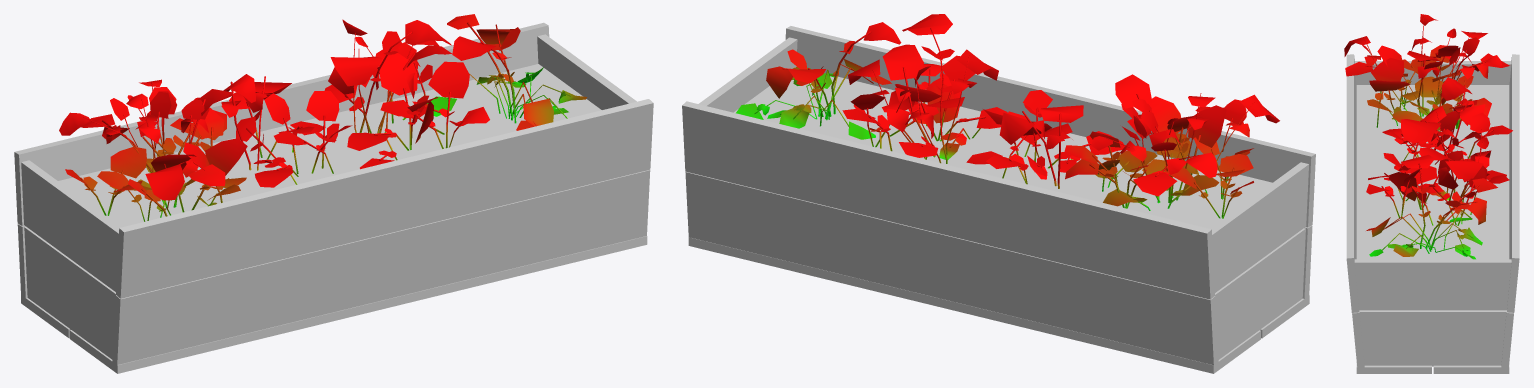
Rendered from SM_CorianderBalcony_2.fbx.
The picture shows the model from 3 angles, left to right: view 1: azimuth 30°, elevation 25°; view 2: azimuth 150°, elevation 25°; view 3: azimuth 270°, elevation 25°; orthographic projection. The views are drawn at different scales.
Parts seen in each view (by area): view 1: Balcony2, Coriander6, Coriander4, Coriander3, Coriander5; view 2: Balcony2, Coriander6, Coriander4, Coriander3, Coriander5; view 3: Balcony2, Coriander6, Coriander4, Coriander5, Coriander3.
Boxes of the visible parts, left/top/right/bottom form: Balcony2: left=14, top=22, right=653, bottom=373; Coriander6: left=59, top=79, right=247, bottom=221; Coriander4: left=324, top=19, right=489, bottom=169; Coriander3: left=221, top=74, right=352, bottom=187; Coriander5: left=427, top=14, right=586, bottom=130; Balcony2: left=682, top=26, right=1315, bottom=373; Coriander6: left=1064, top=74, right=1279, bottom=218; Coriander4: left=842, top=14, right=1027, bottom=163; Coriander3: left=966, top=90, right=1124, bottom=188; Coriander5: left=736, top=22, right=901, bottom=139; Balcony2: left=1346, top=54, right=1519, bottom=373; Coriander6: left=1344, top=14, right=1509, bottom=131; Coriander4: left=1366, top=106, right=1509, bottom=225; Coriander5: left=1366, top=154, right=1497, bottom=259; Coriander3: left=1382, top=77, right=1512, bottom=164.
Bounding box in the file's own units: 64 × 26.55 × 23.26.
